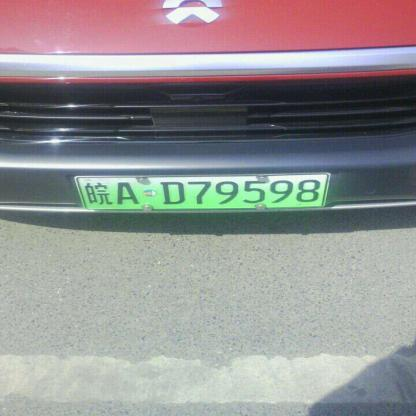lp: (76, 173, 328, 208)
